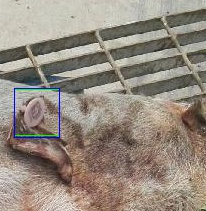text: (14, 89, 59, 135)
